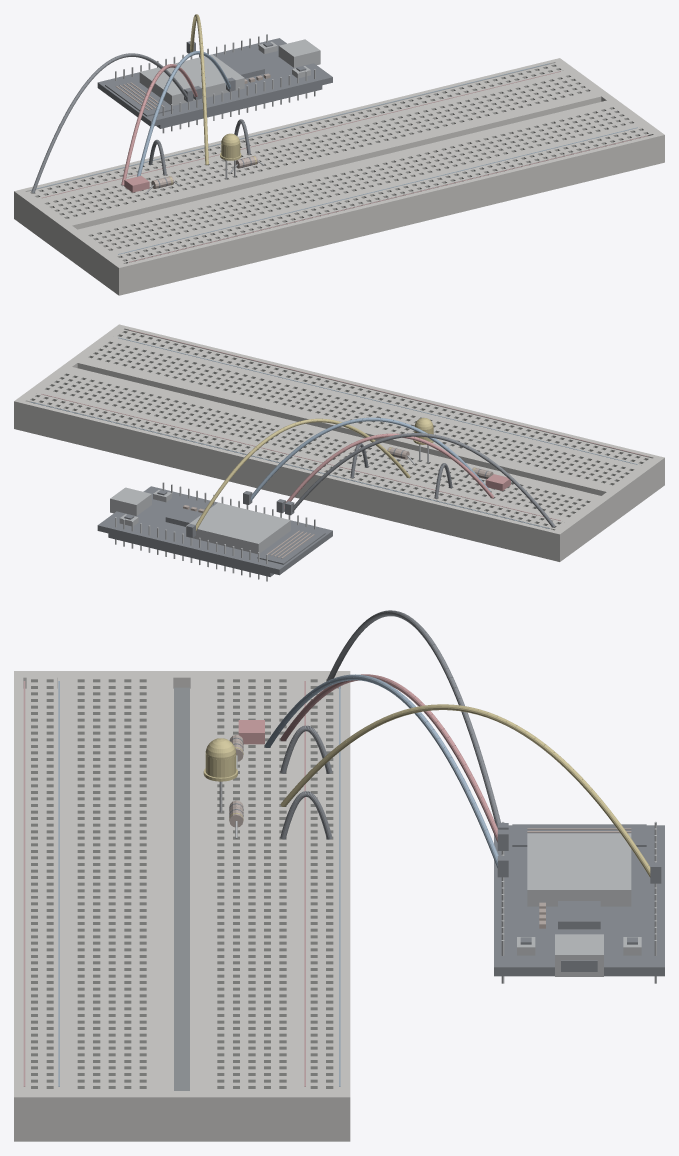
3 renders of one model, top to bottom at view 1: azimuth 30°, elevation 25°; view 2: azimuth 150°, elevation 25°; view 3: azimuth 270°, elevation 25°, orthographic. The views are drawn at different scales.
Parts seen in each view (by area): view 1: bb__mesh, uno__mesh, w_gnd_rail__mesh, w_a0__mesh, w_led_sig__mesh, w_5v__mesh, led_yellow__mesh; view 2: bb__mesh, uno__mesh, w_gnd_rail__mesh, w_led_sig__mesh, w_a0__mesh, w_5v__mesh, led_yellow__mesh; view 3: bb__mesh, uno__mesh, w_led_sig__mesh, w_a0__mesh, w_gnd_rail__mesh, w_5v__mesh, led_yellow__mesh.
Boxes of the visible parts, left/top/right/bottom form: bb__mesh: left=14, top=58, right=664, bottom=295; uno__mesh: left=97, top=34, right=332, bottom=133; w_gnd_rail__mesh: left=31, top=53, right=193, bottom=193; w_a0__mesh: left=137, top=51, right=235, bottom=176; w_led_sig__mesh: left=186, top=14, right=208, bottom=164; w_5v__mesh: left=121, top=64, right=201, bottom=185; led_yellow__mesh: left=220, top=133, right=241, bottom=178; bb__mesh: left=14, top=324, right=664, bottom=561; uno__mesh: left=97, top=482, right=332, bottom=581; w_gnd_rail__mesh: left=285, top=433, right=555, bottom=527; w_led_sig__mesh: left=186, top=418, right=410, bottom=537; w_a0__mesh: left=243, top=417, right=490, bottom=504; w_5v__mesh: left=276, top=433, right=494, bottom=513; led_yellow__mesh: left=413, top=417, right=433, bottom=463; bb__mesh: left=14, top=671, right=350, bottom=1141; uno__mesh: left=494, top=821, right=664, bottom=983; w_led_sig__mesh: left=280, top=704, right=661, bottom=883; w_a0__mesh: left=265, top=674, right=508, bottom=877; w_gnd_rail__mesh: left=327, top=610, right=508, bottom=829; w_5v__mesh: left=280, top=674, right=508, bottom=850; led_yellow__mesh: left=203, top=738, right=237, bottom=812.
Bounding box in the file's own units: 0.165 × 0.0333 × 0.1065.
